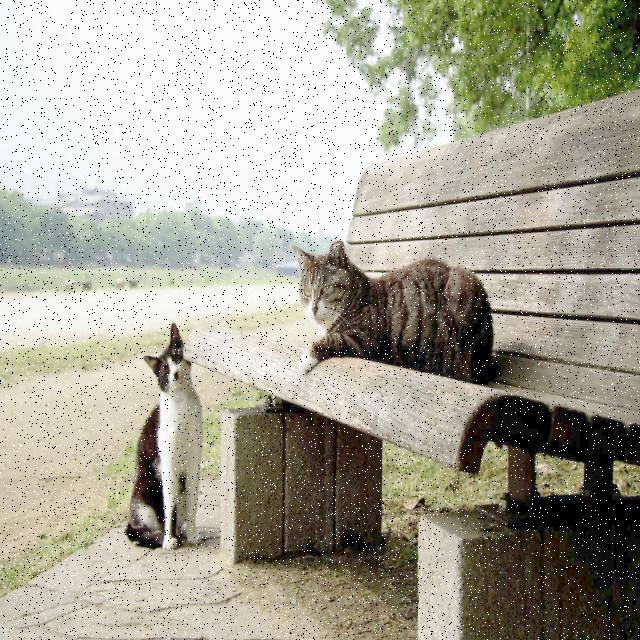cat: (294, 242, 494, 382), (126, 322, 202, 549)
